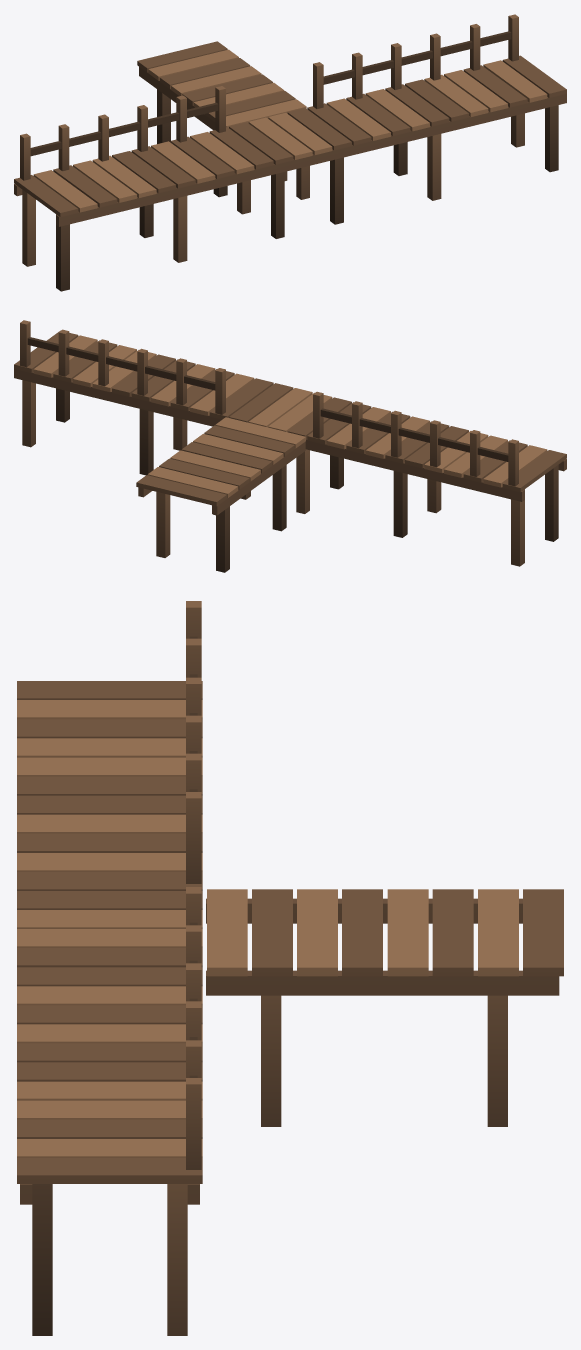
The model's file is wooden-pier-5.glb.
3 views of the same model, one above another, from view 1: azimuth 30°, elevation 25°; view 2: azimuth 150°, elevation 25°; view 3: azimuth 270°, elevation 25° (orthographic). The views are drawn at different scales.
Parts seen in each view (by area): view 1: wooden pier 5; view 2: wooden pier 5; view 3: wooden pier 5.
Boxes of the visible parts, box(x1,y1,x2,y2) form: wooden pier 5: box(14, 14, 566, 291); wooden pier 5: box(14, 320, 566, 572); wooden pier 5: box(17, 601, 563, 1335).
Bounding box in the file's own units: 12.65 × 2.98 × 5.89.
Materials: 1 (1 with a texture image).
